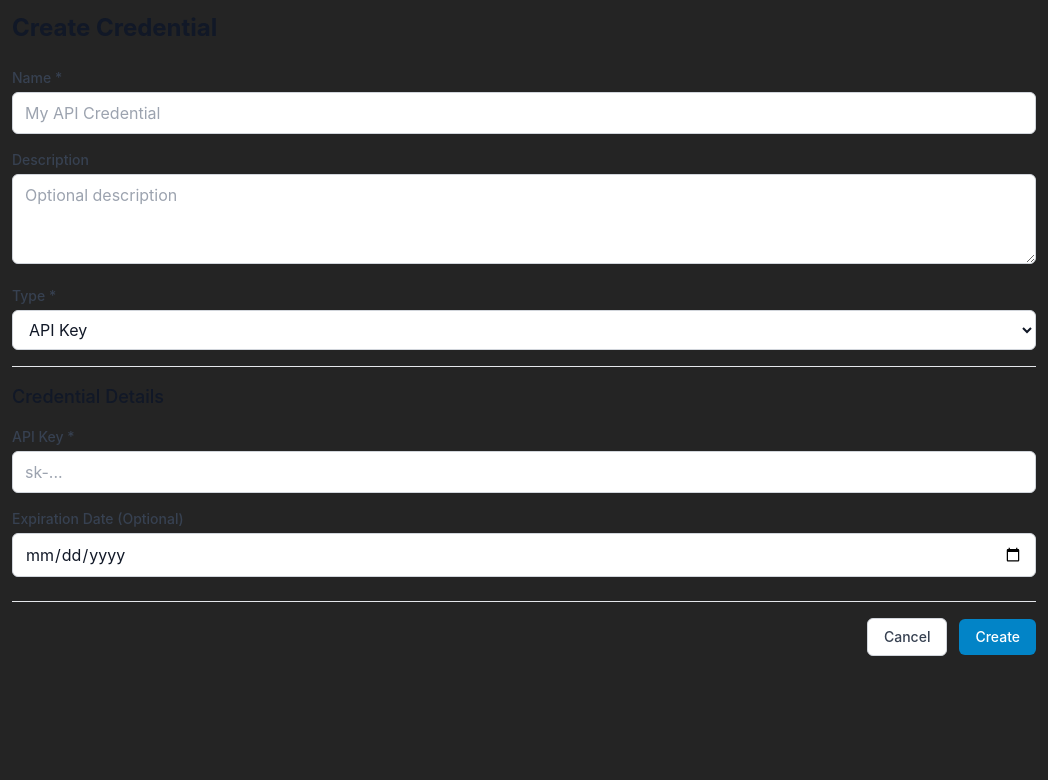
Test case: CredentialForm › Create mode › shows basic auth fields when type is basic_auth
Select "Basic Auth" in the dropdown labelled "Type *" at (524, 330), box [12, 310, 1036, 350]
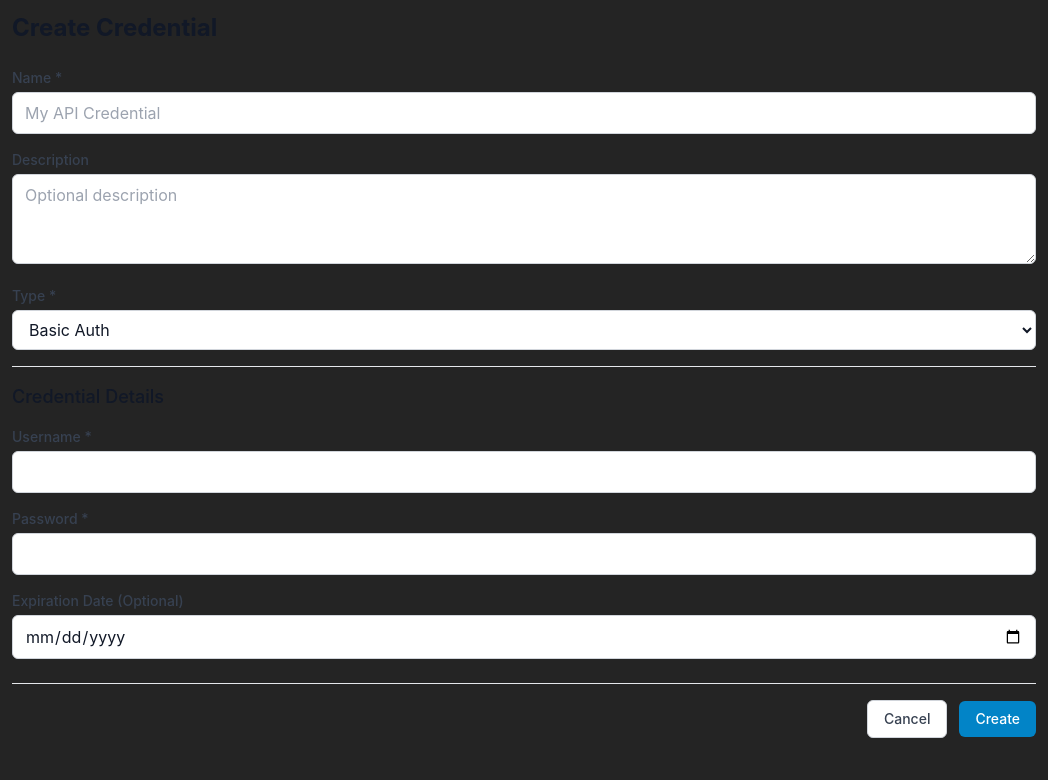
Check: the field labelled "Username *" is shown, box [12, 451, 1036, 493]
Check: the password field labelled "Password *" is shown, box [12, 533, 1036, 575]
